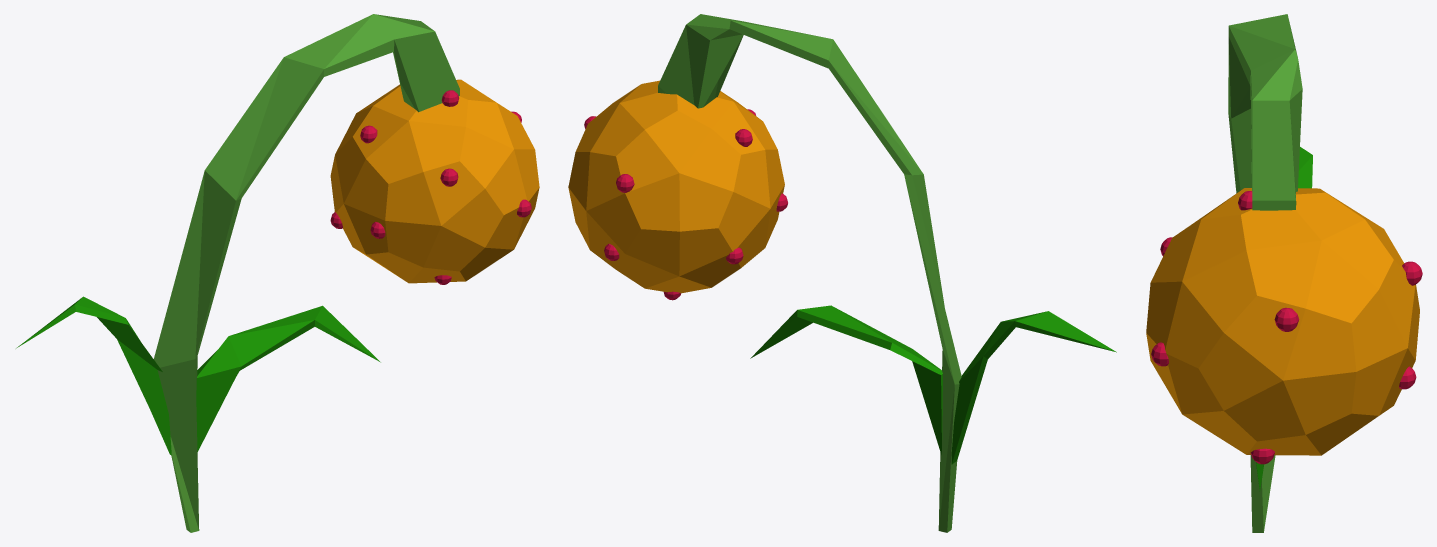
File: Boumis.fbx
3 renders of one model, left to right at view 1: azimuth 30°, elevation 25°; view 2: azimuth 150°, elevation 25°; view 3: azimuth 270°, elevation 25°, orthographic. The views are drawn at different scales.
Visible parts, largest first — view 1: pPlatonic27, polySurface5, polySurface6, polySurface7; view 2: pPlatonic27, polySurface5, polySurface6, polySurface7; view 3: pPlatonic27, polySurface5, polySurface7, pSphere18, pSphere16.
Boxes of the visible parts, box(x1,y1,x2,y2) form: pPlatonic27: box(330, 79, 539, 283); polySurface5: box(153, 14, 459, 532); polySurface6: box(196, 305, 380, 452); polySurface7: box(16, 296, 171, 455); pPlatonic27: box(568, 80, 784, 293); polySurface5: box(658, 14, 961, 532); polySurface6: box(750, 305, 942, 454); polySurface7: box(951, 311, 1116, 464); pPlatonic27: box(1146, 188, 1419, 455); polySurface5: box(1228, 14, 1302, 532); polySurface7: box(1298, 147, 1312, 188); pSphere18: box(1274, 307, 1299, 331); pSphere16: box(1402, 261, 1422, 285).
Bounding box in the file's own units: 5.65 × 4.8 × 1.98.
